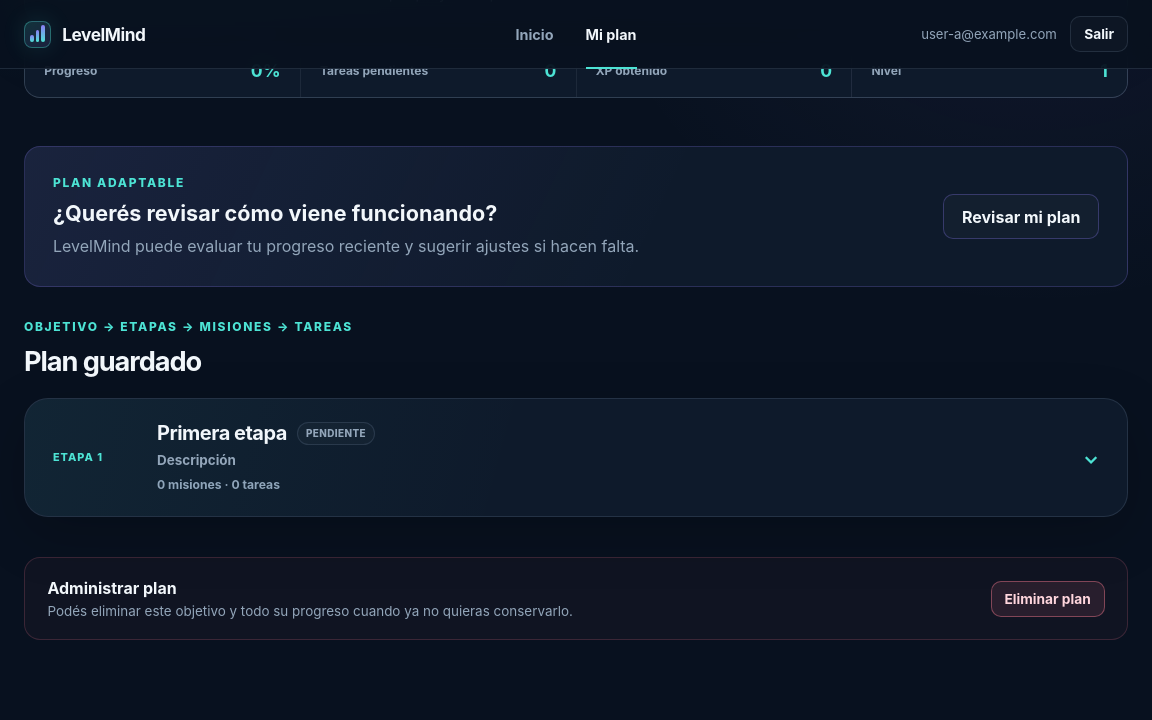
Test: active plan deletion › keeps the plan and local reference visible when deletion fails
(page scrolled)
Click the button "Eliminar plan" at (1048, 599), box [991,581,1105,617]
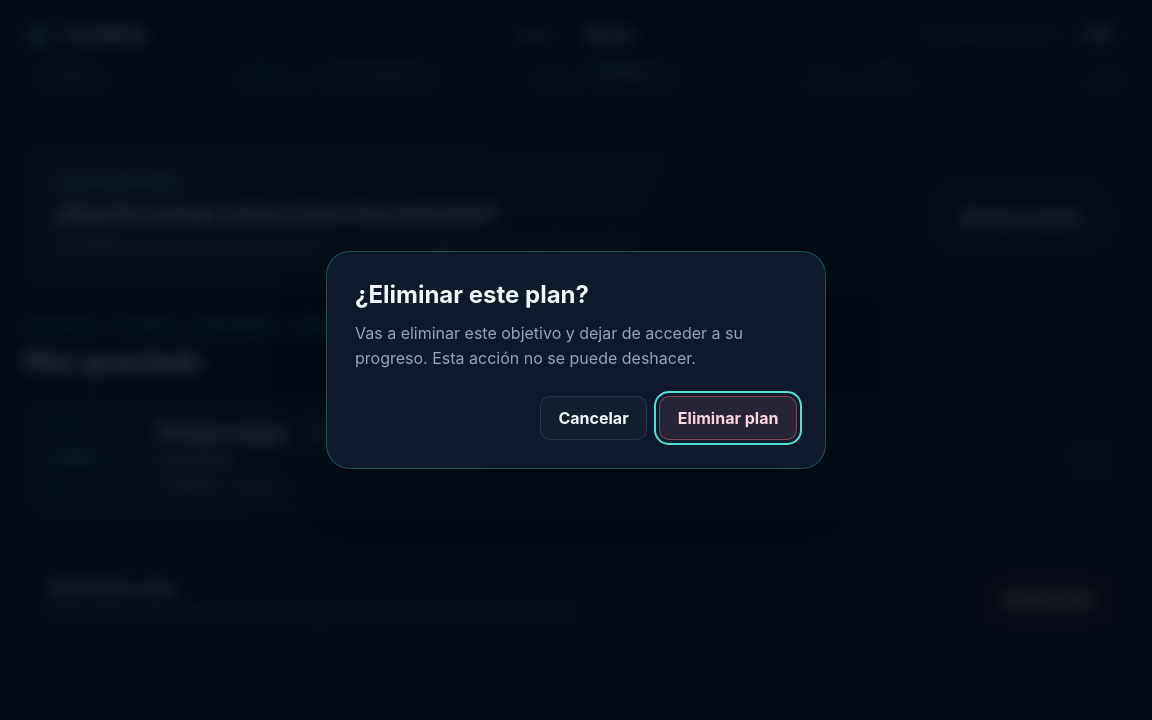
Click the button "Eliminar plan" at (728, 418), box [659,396,797,440]
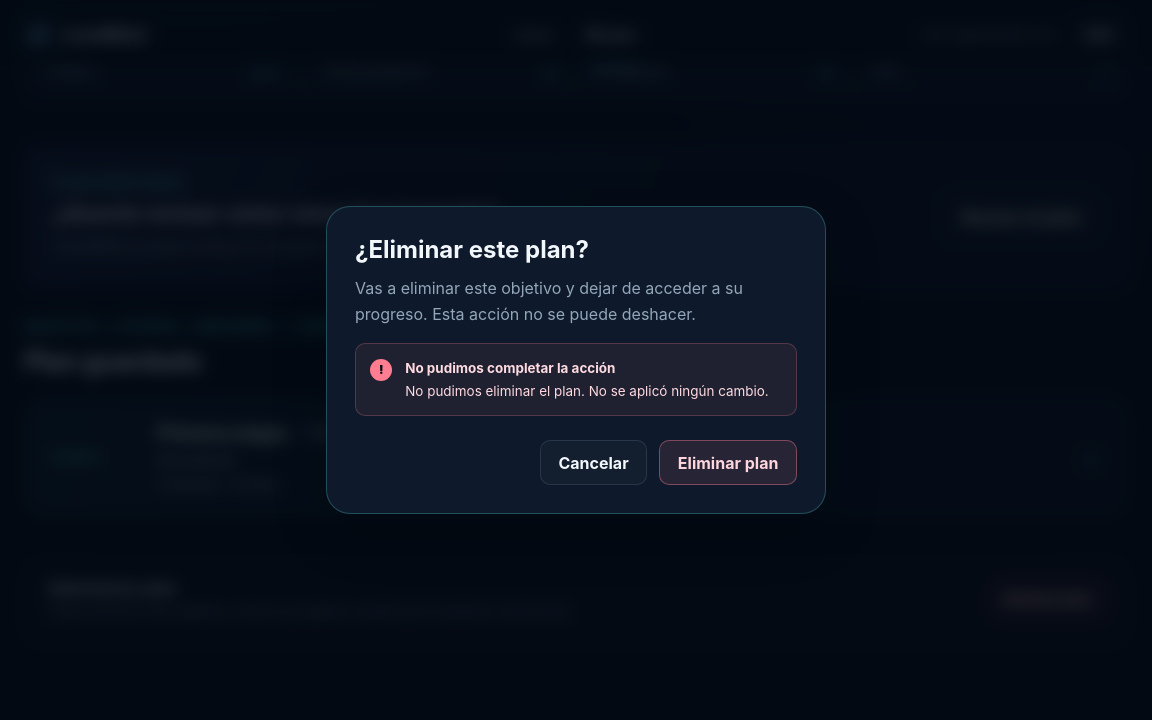
Now the dialog is shown, box [326,206,826,514]
Now the message shows "No pudimos eliminar el plan. No se aplicó ningún cambio.", box [405,382,769,398]
